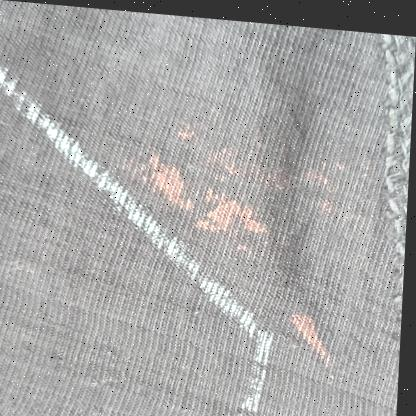spot: (133, 117, 268, 260), (152, 138, 316, 250), (292, 302, 354, 375)
